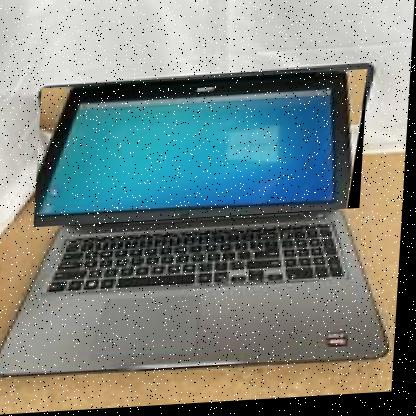Normal: (36, 74, 370, 229)
